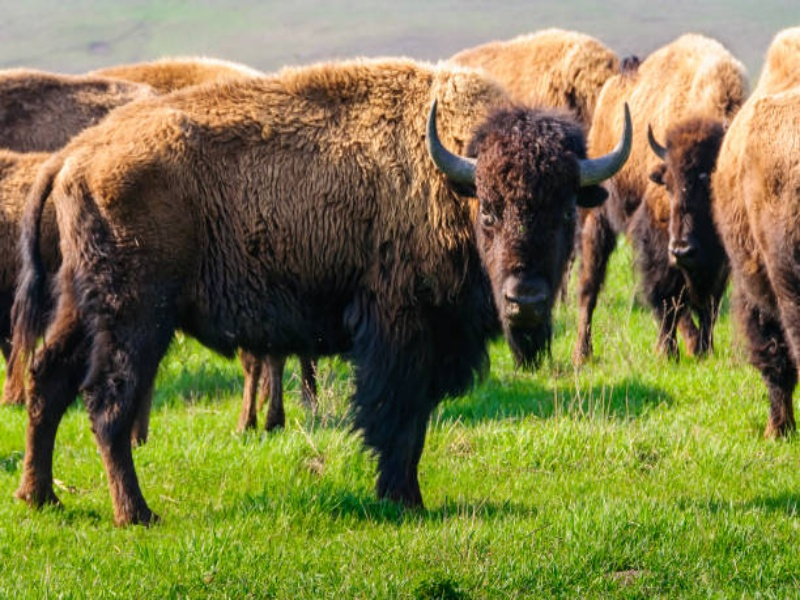buffalo: (31, 57, 642, 534)
